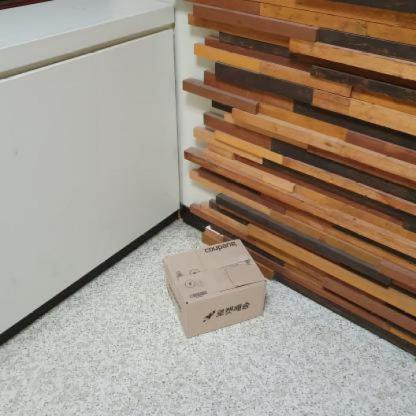box: (147, 235, 278, 341)
